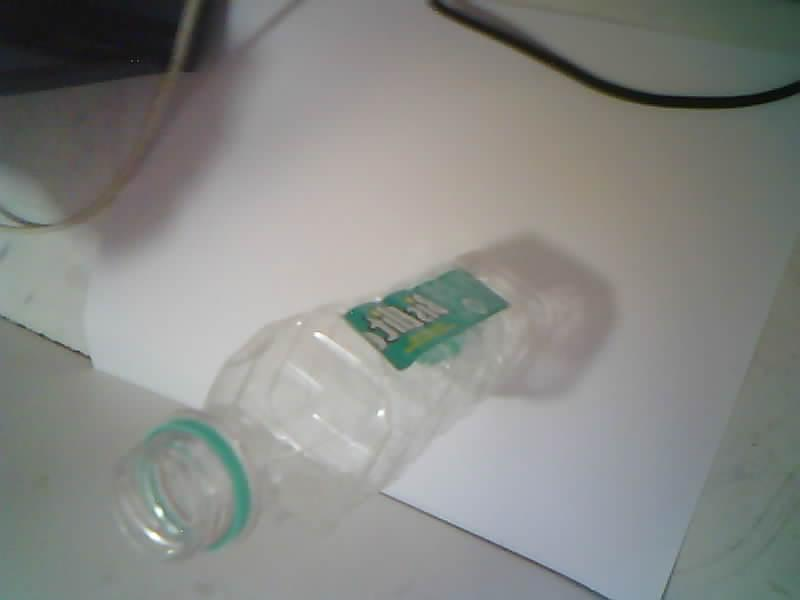non-biodegradable: (115, 266, 544, 559)
